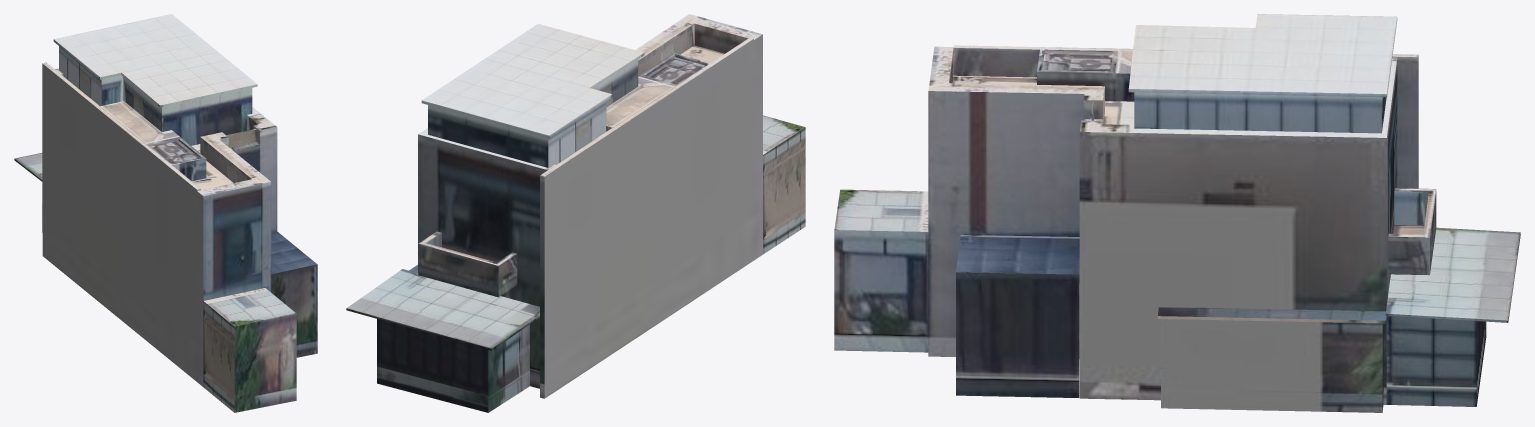
The picture shows the model from 3 angles, left to right: view 1: azimuth 30°, elevation 25°; view 2: azimuth 150°, elevation 25°; view 3: azimuth 270°, elevation 25°; orthographic projection. The views are drawn at different scales.
Parts seen in each view (by area): view 1: B285264034301062A0; view 2: B285264034301062A0; view 3: B285264034301062A0.
Part boxes in pixels (x1=…): B285264034301062A0: x1=14, y1=14, x2=317, y2=412; B285264034301062A0: x1=346, y1=14, x2=805, y2=412; B285264034301062A0: x1=834, y1=14, x2=1520, y2=412.
Bounding box in the file's own units: 8.03 × 10.95 × 22.05.
1 material, 1 textured.
